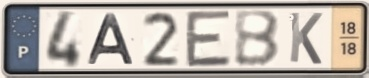2: (140, 10, 182, 68)
4: (44, 8, 84, 70)
A: (86, 12, 137, 67)
B: (232, 9, 282, 69)
E: (184, 8, 234, 70)
K: (287, 11, 324, 67)
